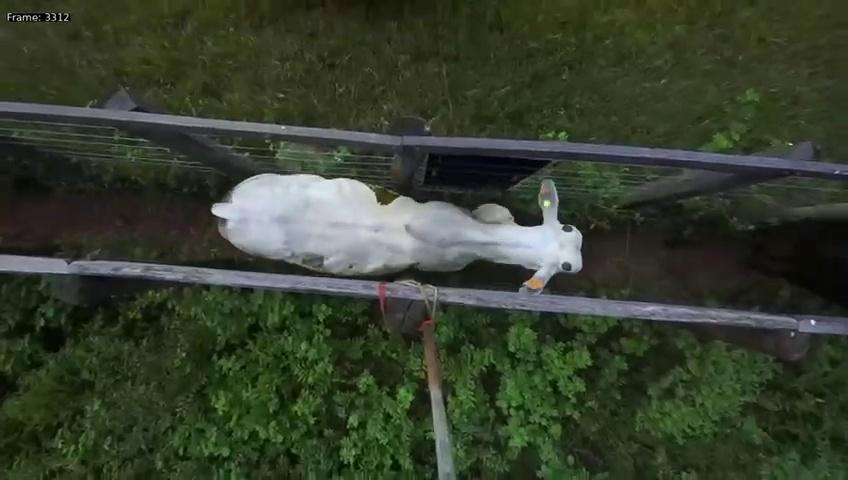cattle: (196, 157, 589, 299)
